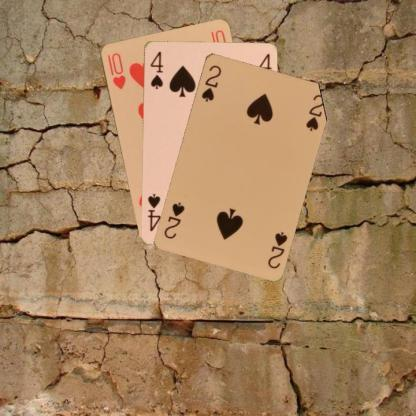10h: (104, 50, 127, 90)
2s: (198, 62, 223, 103), (264, 228, 288, 270)
4s: (147, 49, 164, 90)
